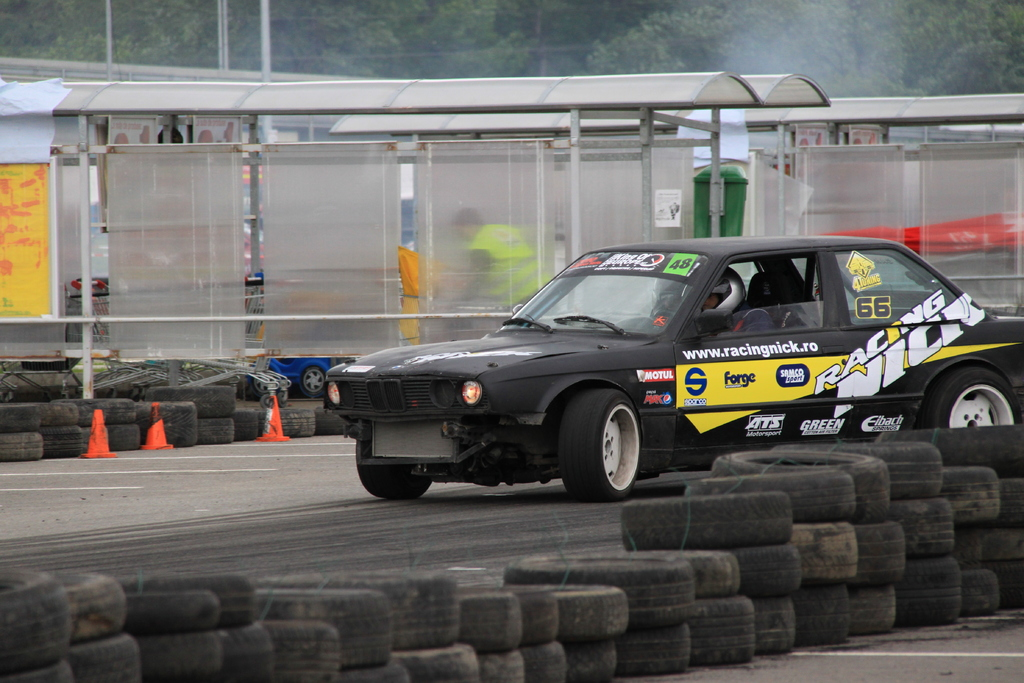Car: (324, 237, 1023, 504)
